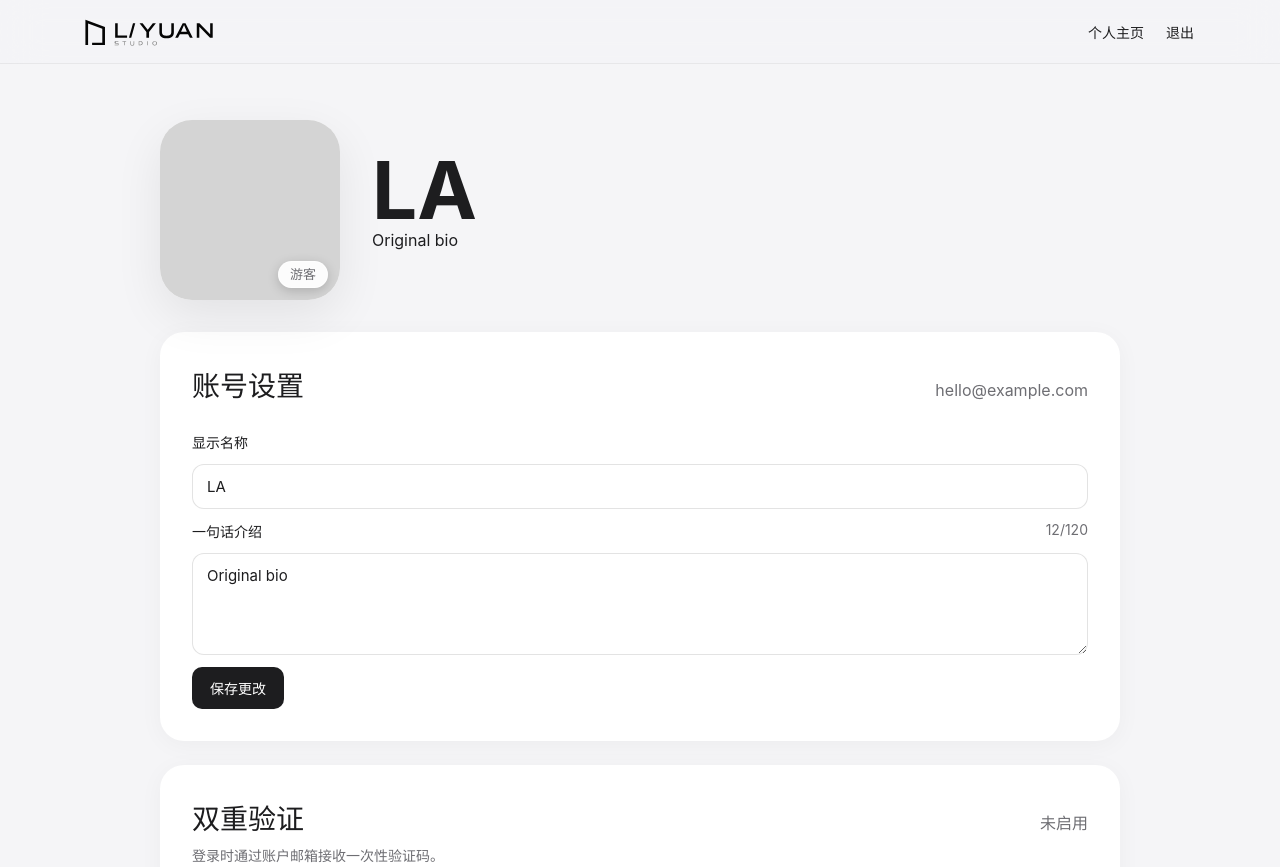
ProfilePage › shows requestId when profile save fails
Check: the heading "LA" is shown, box [372,150,477,230]
Click the button "保存更改": [238, 688] box [192,667,284,709]
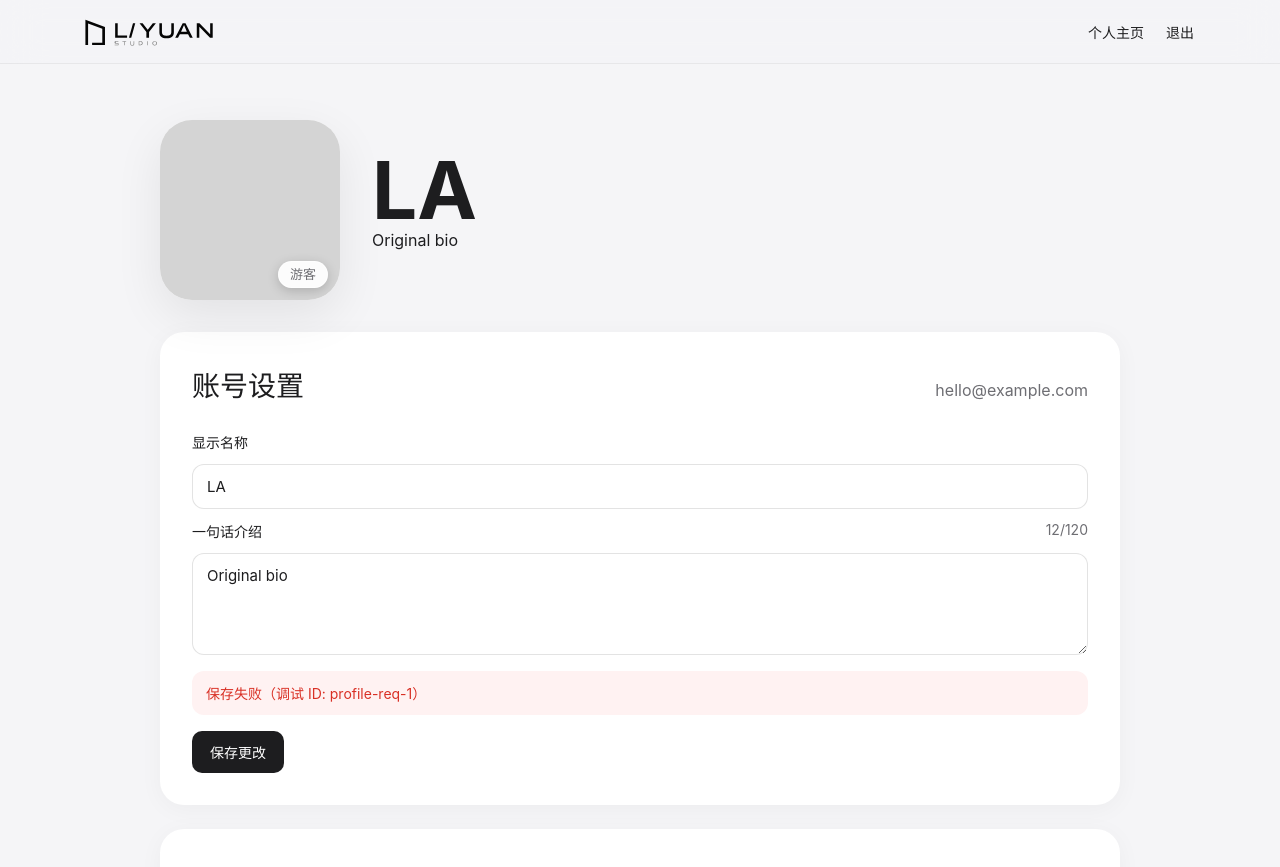
Check: the message with test id "profile-error" reads "保存失败（调试 ID: profile-req-1）", box [206,685,426,702]
